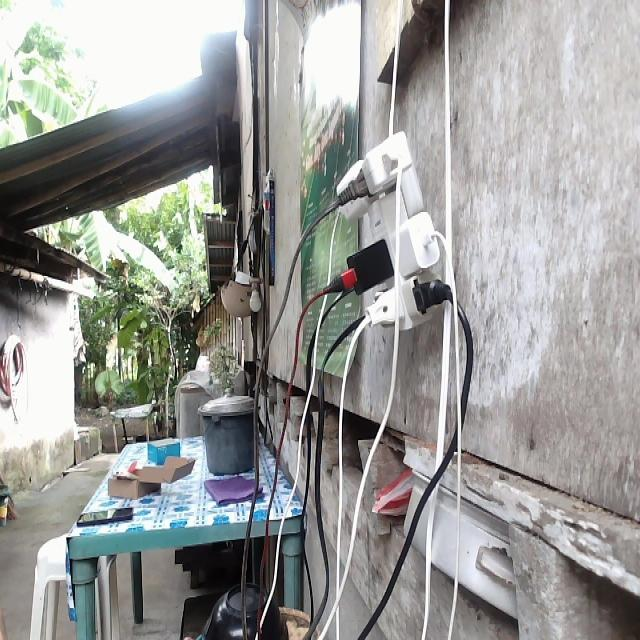-: (329, 129, 452, 336)
